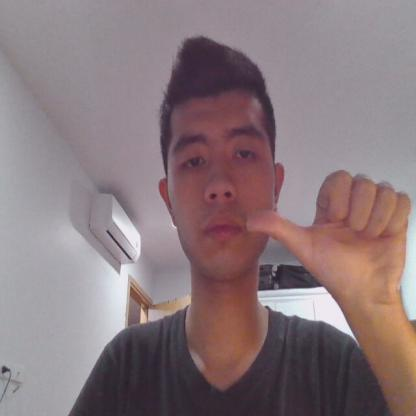right: (247, 168, 411, 306)
